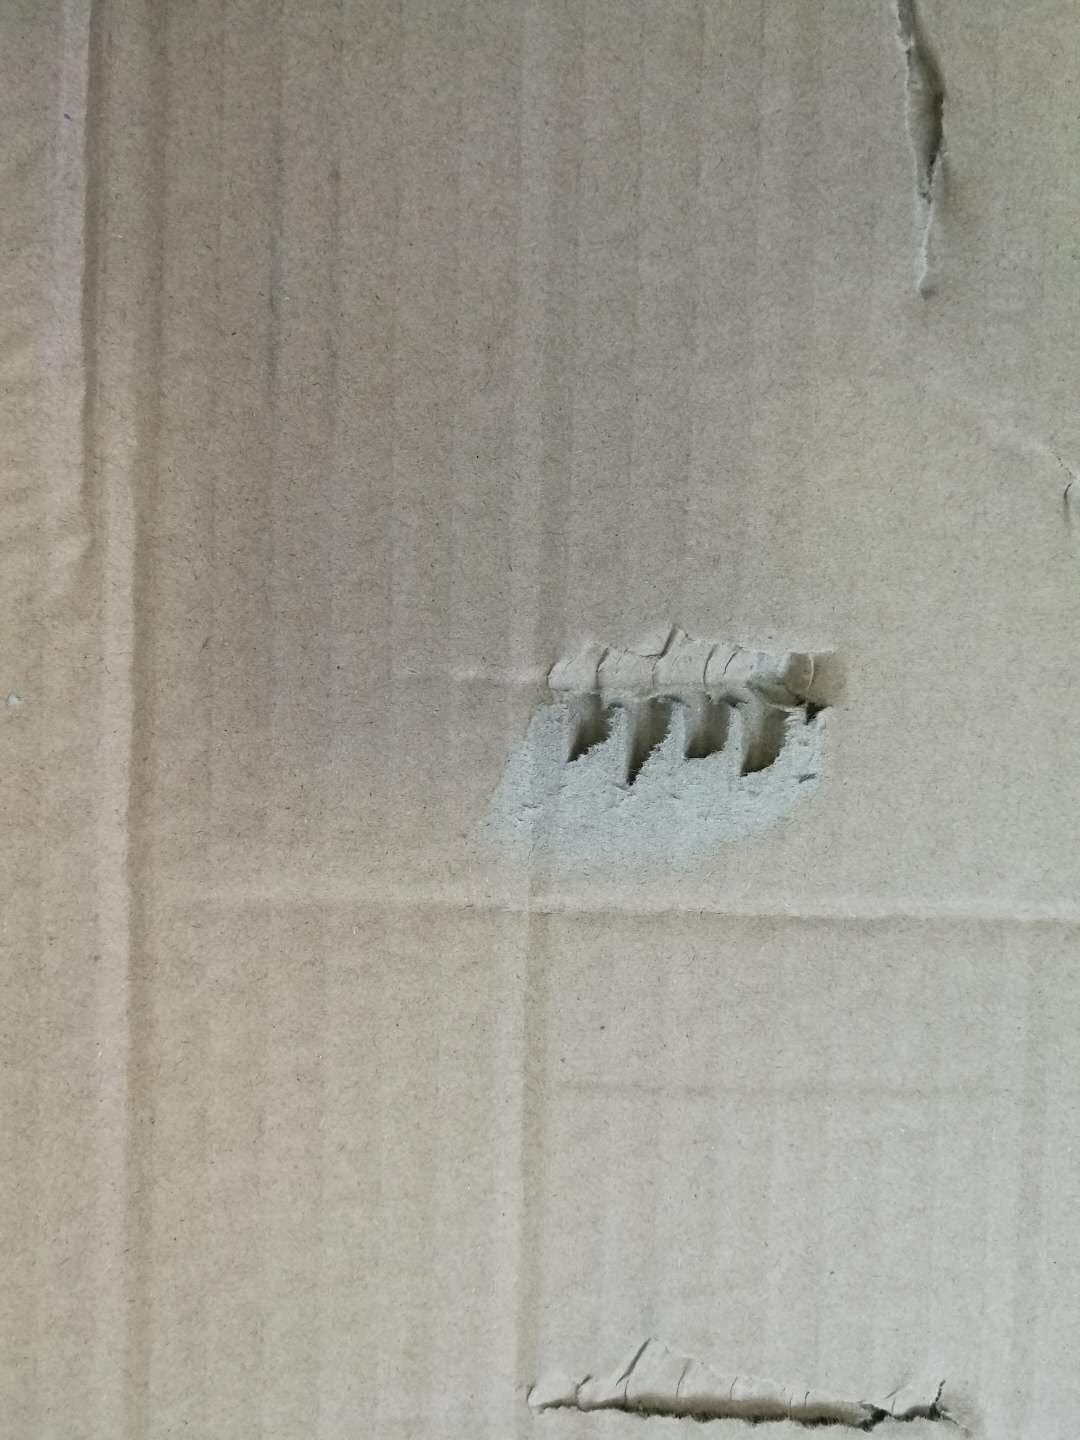defect: (9, 2, 248, 1435), (388, 602, 908, 896), (491, 1296, 1026, 1440), (476, 855, 605, 1418), (832, 1, 1003, 324)
